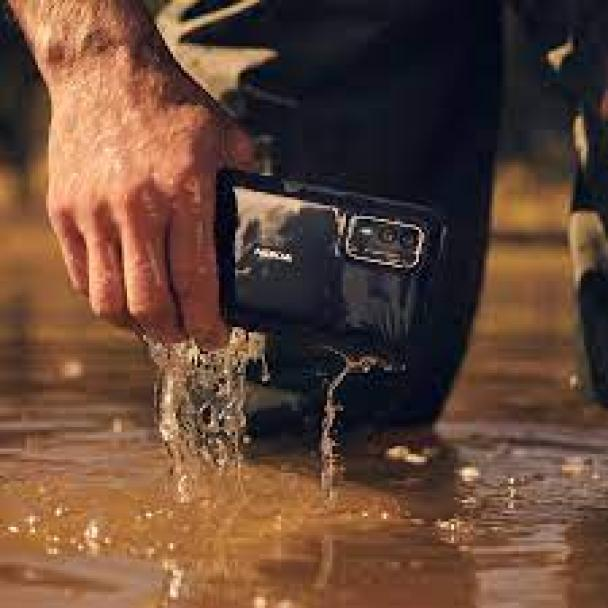Handphone: (193, 168, 444, 367)
